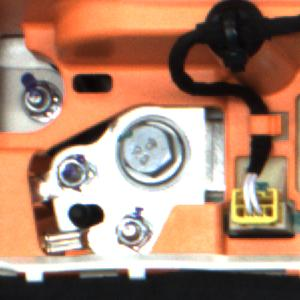nut_b: (109, 110, 193, 194)
screw_s: (15, 76, 59, 123), (114, 211, 156, 254), (57, 154, 91, 194)
